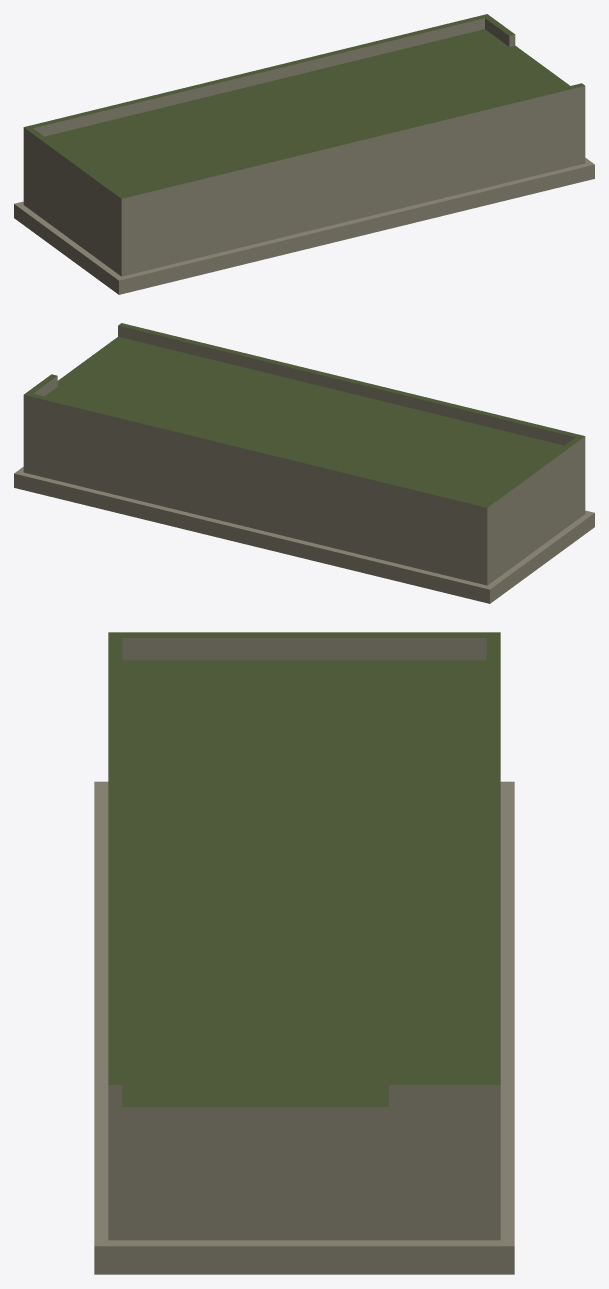
The model's file is ruin-arcade-b.tone-v1.lod2.glb.
3 renders of one model, top to bottom at view 1: azimuth 30°, elevation 25°; view 2: azimuth 150°, elevation 25°; view 3: azimuth 270°, elevation 25°, orthographic. The views are drawn at different scales.
Visible parts, largest first — view 1: ruin-arcade-b; view 2: ruin-arcade-b; view 3: ruin-arcade-b.
Part boxes in pixels (x1,y1,x2,y2): ruin-arcade-b: [14, 14, 594, 294]; ruin-arcade-b: [14, 323, 594, 603]; ruin-arcade-b: [94, 632, 514, 1274].
Bounding box in the file's own units: 31.4 × 5.8 × 12.
